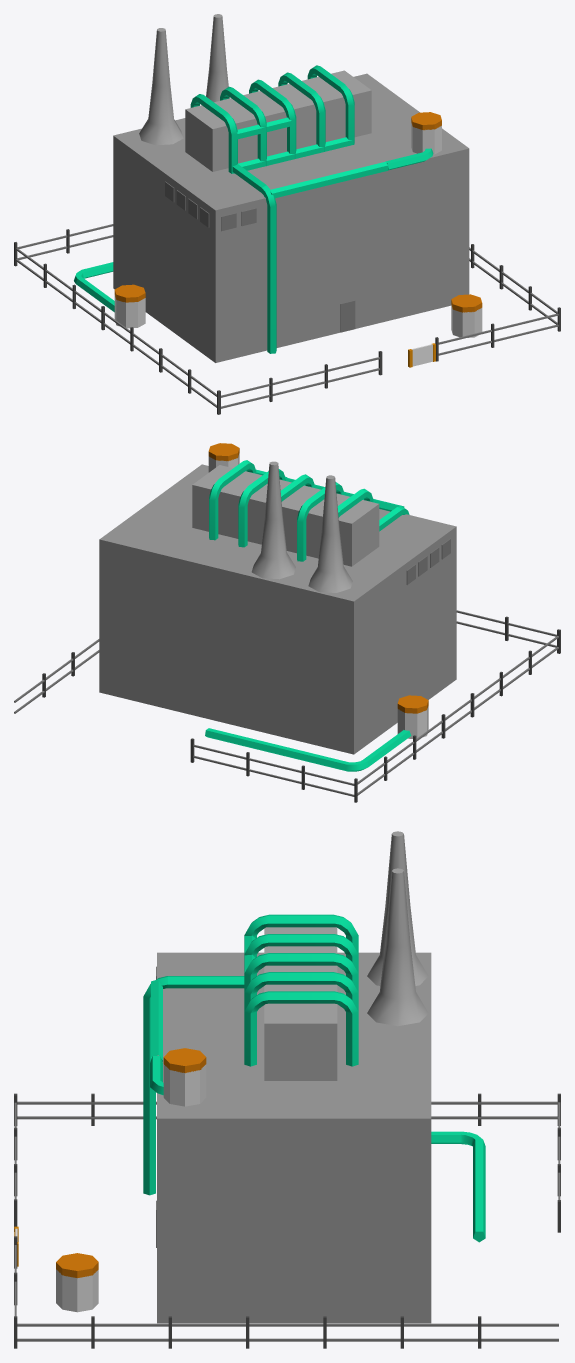
Rendered from Building_2by2_Polluting.fbx.
3 renders of one model, top to bottom at view 1: azimuth 30°, elevation 25°; view 2: azimuth 150°, elevation 25°; view 3: azimuth 270°, elevation 25°, orthographic. The views are drawn at different scales.
Parts seen in each view (by area): view 1: pCube1, pCube2, pCylinder6, pCylinder14, polySurface4, pCube64, pCylinder15, polySurface7, polySurface5, pCube66, pCylinder13, pCylinder11 (+6 smaller); view 2: pCube1, pCube2, pCylinder6, pCylinder14, pCylinder15, polySurface9, pCube64, pCube67, pCylinder13, pCube65, pCube66, polySurface10 (+2 smaller); view 3: pCube1, pCylinder6, pCube2, pCylinder15, pCube65, polySurface4, pCube64, pCylinder14, pCylinder8, polySurface9, pCylinder11, polySurface3 (+3 smaller).
Boxes of the visible parts, x1,y1,x2,y2 form: pCube1: [113, 73, 469, 362]; pCube2: [185, 70, 371, 171]; pCylinder6: [190, 65, 354, 173]; pCylinder14: [139, 28, 183, 145]; polySurface4: [262, 185, 276, 353]; pCube64: [16, 248, 216, 407]; pCylinder15: [206, 14, 229, 102]; polySurface7: [270, 161, 388, 198]; polySurface5: [238, 137, 353, 170]; pCube66: [221, 357, 379, 408]; pCylinder13: [114, 295, 145, 328]; pCylinder11: [451, 305, 482, 337]; pCube1: [99, 464, 456, 754]; pCube2: [192, 465, 379, 566]; pCylinder6: [209, 460, 373, 561]; pCylinder14: [308, 475, 352, 592]; pCylinder15: [251, 461, 295, 579]; polySurface9: [205, 728, 368, 771]; pCube64: [357, 636, 558, 795]; pCube67: [193, 744, 354, 796]; pCylinder13: [397, 706, 428, 738]; pCube65: [14, 639, 99, 713]; pCube66: [456, 610, 556, 647]; polySurface10: [362, 730, 411, 766]; pCube1: [157, 952, 431, 1323]; pCylinder6: [244, 914, 358, 1066]; pCube2: [264, 927, 337, 1080]; pCylinder15: [367, 868, 428, 1026]; pCube65: [17, 1323, 558, 1341]; polySurface4: [143, 976, 167, 1195]; pCube64: [17, 1101, 558, 1119]; pCylinder14: [367, 831, 428, 985]; pCylinder8: [163, 1064, 206, 1106]; polySurface9: [461, 1131, 485, 1242]; pCylinder11: [56, 1269, 98, 1312]; polySurface3: [168, 976, 244, 988].
Bounding box in the file's own units: 1.87 × 1.35 × 1.93.
